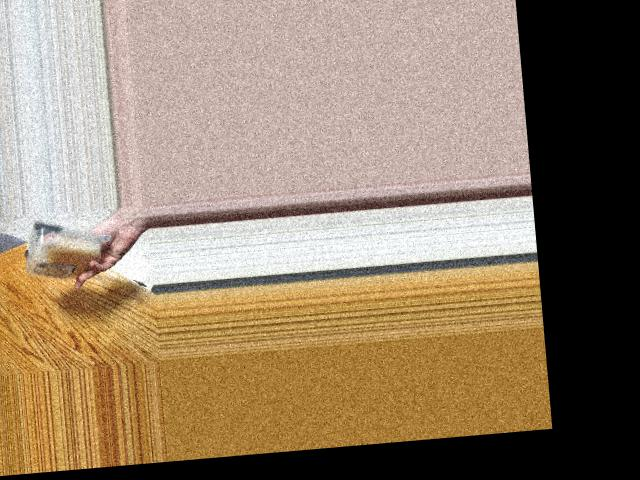cheese: (18, 217, 106, 285)
